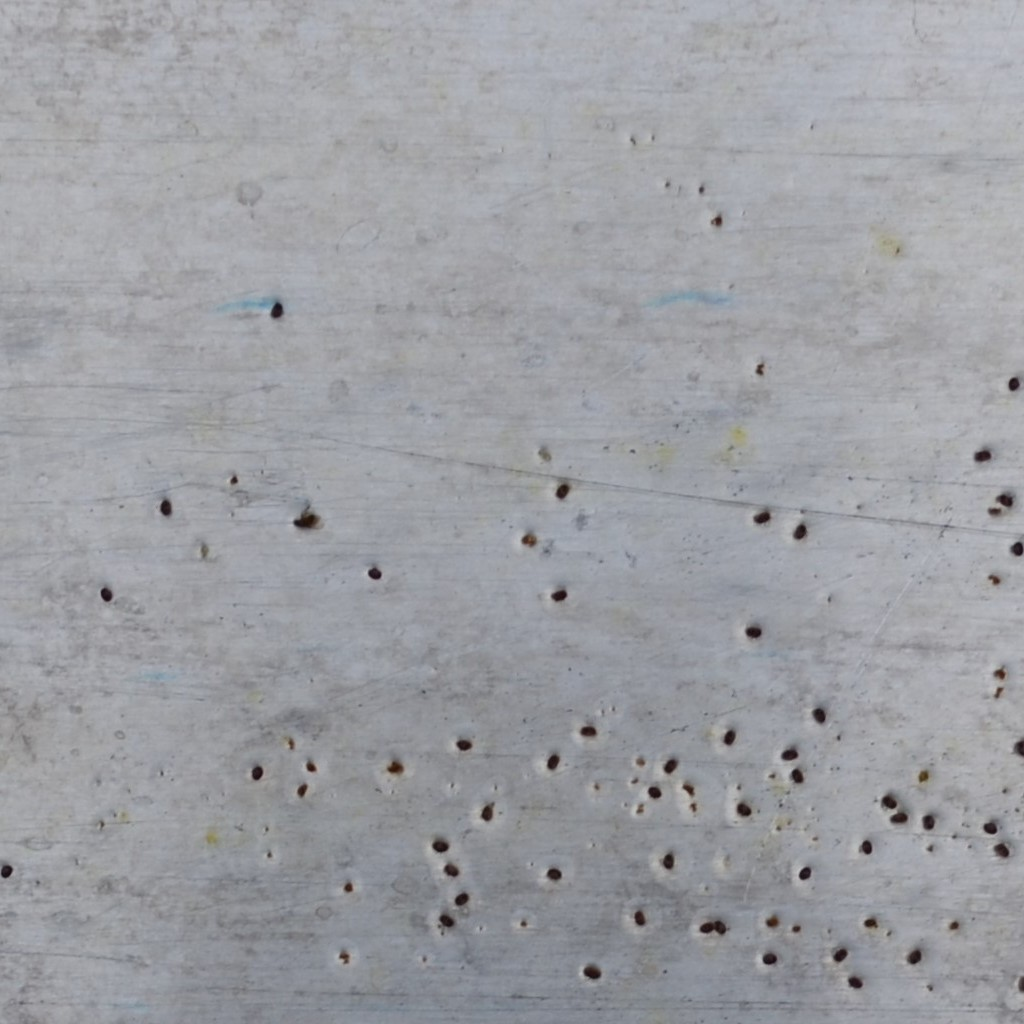varroa: (478, 798, 496, 824), (751, 507, 772, 528), (845, 970, 866, 991), (453, 736, 474, 757), (903, 945, 922, 968), (992, 839, 1013, 859), (429, 837, 450, 857), (435, 911, 456, 931), (734, 798, 753, 819), (266, 298, 284, 320), (743, 622, 762, 642), (553, 479, 571, 500), (858, 838, 875, 860), (970, 447, 993, 463), (862, 913, 878, 936), (157, 497, 173, 520), (582, 962, 601, 981), (442, 861, 461, 880), (830, 945, 848, 965), (631, 906, 646, 930), (451, 888, 471, 906), (365, 563, 385, 581), (249, 762, 264, 786), (780, 744, 801, 761), (921, 810, 937, 832), (887, 809, 909, 825), (545, 749, 560, 772), (980, 818, 998, 837), (879, 792, 899, 809), (795, 865, 815, 882), (791, 522, 807, 543), (660, 848, 675, 870), (760, 950, 779, 967), (811, 704, 827, 724), (579, 724, 599, 740), (98, 585, 114, 605), (1006, 373, 1021, 394), (789, 765, 804, 786), (545, 864, 562, 882), (721, 728, 737, 747), (712, 916, 728, 935), (0, 859, 12, 884), (294, 781, 308, 802), (998, 490, 1014, 508), (549, 589, 568, 604), (663, 755, 677, 775), (645, 785, 662, 801), (1013, 735, 1023, 762), (699, 919, 713, 935), (1011, 541, 1023, 559), (305, 762, 318, 777)
